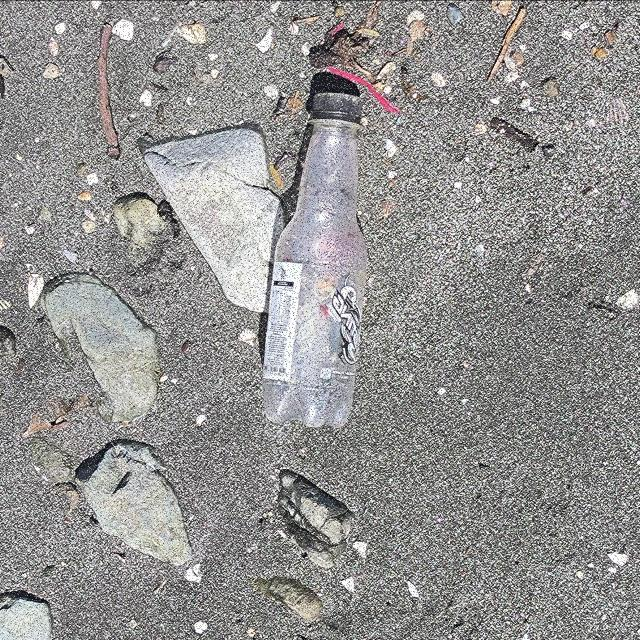plastic_waste: (264, 94, 368, 429)
